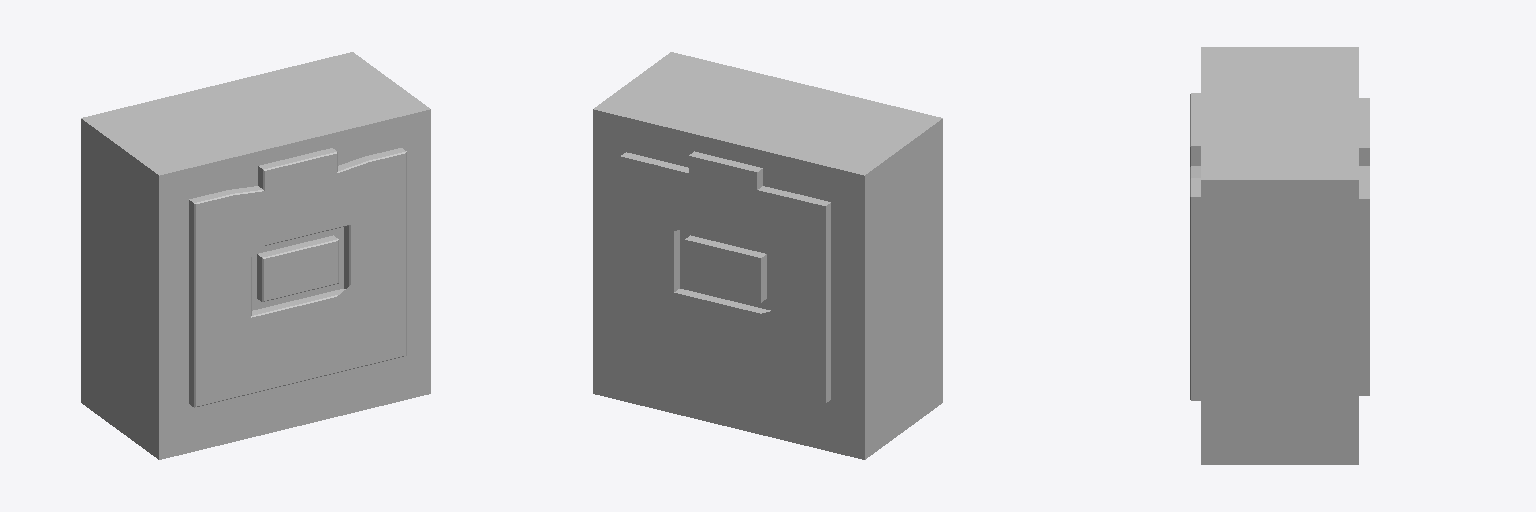
File: ItemFotos.obj
3 renders of one model, left to right at view 1: azimuth 30°, elevation 25°; view 2: azimuth 150°, elevation 25°; view 3: azimuth 270°, elevation 25°, orthographic.
Parts seen in each view (by area): view 1: pCube2; view 2: pCube2; view 3: pCube2.
Boxes of the visible parts, x1=… form: pCube2: x1=81, y1=52, x2=430, y2=459; pCube2: x1=593, y1=52, x2=942, y2=459; pCube2: x1=1190, y1=47, x2=1369, y2=464.
Size of the model in its own units: 6 by 6 by 3.44.